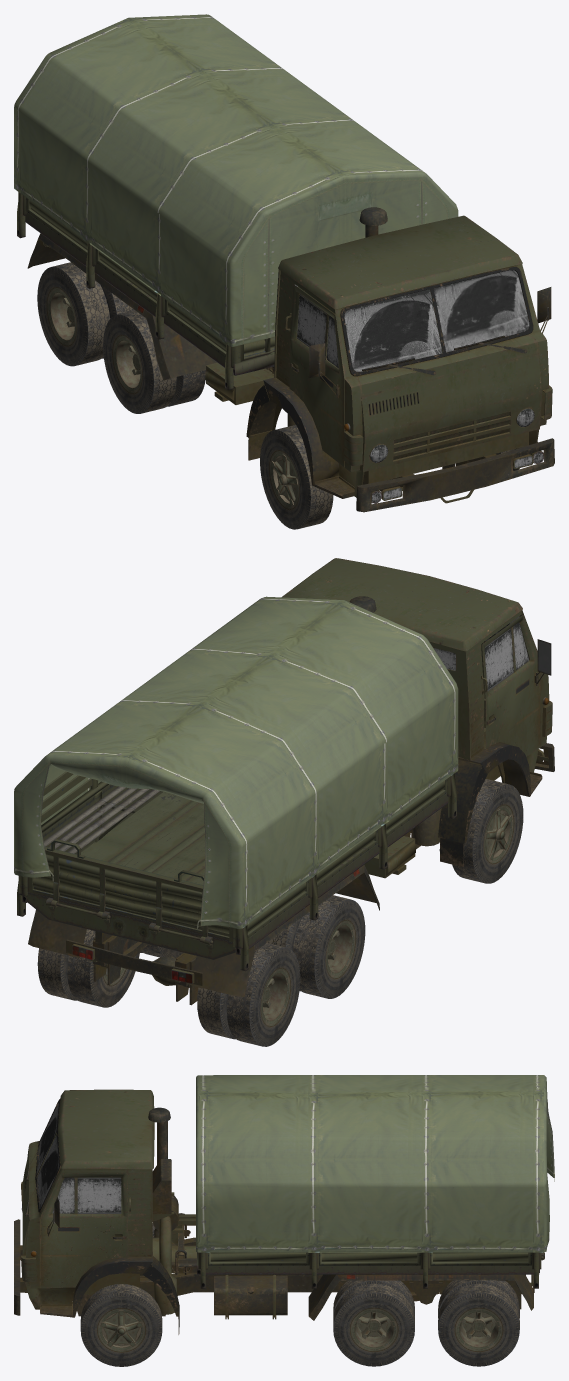
Rendered from kamaz_5330.glb.
The picture shows the model from 3 angles, top to bottom: view 1: azimuth 30°, elevation 25°; view 2: azimuth 150°, elevation 25°; view 3: azimuth 270°, elevation 25°; orthographic projection. The views are drawn at different scales.
Parts seen in each view (by area): view 1: Kung_1, Body_0, Chassi_2; view 2: Kung_1, Chassi_2, Body_0; view 3: Kung_1, Body_0, Chassi_2.
Boxes of the visible parts, bbox=[...] form: Kung_1: bbox=[14, 14, 458, 346]; Body_0: bbox=[27, 207, 554, 512]; Chassi_2: bbox=[17, 192, 543, 529]; Kung_1: bbox=[14, 596, 458, 928]; Chassi_2: bbox=[17, 616, 528, 1046]; Body_0: bbox=[28, 558, 554, 1005]; Kung_1: bbox=[196, 1075, 554, 1252]; Body_0: bbox=[14, 1089, 534, 1334]; Chassi_2: bbox=[21, 1102, 544, 1366].
Bounding box in the file's own units: 2.93 × 3.35 × 7.08.
Materials: 5 (5 with a texture image).
